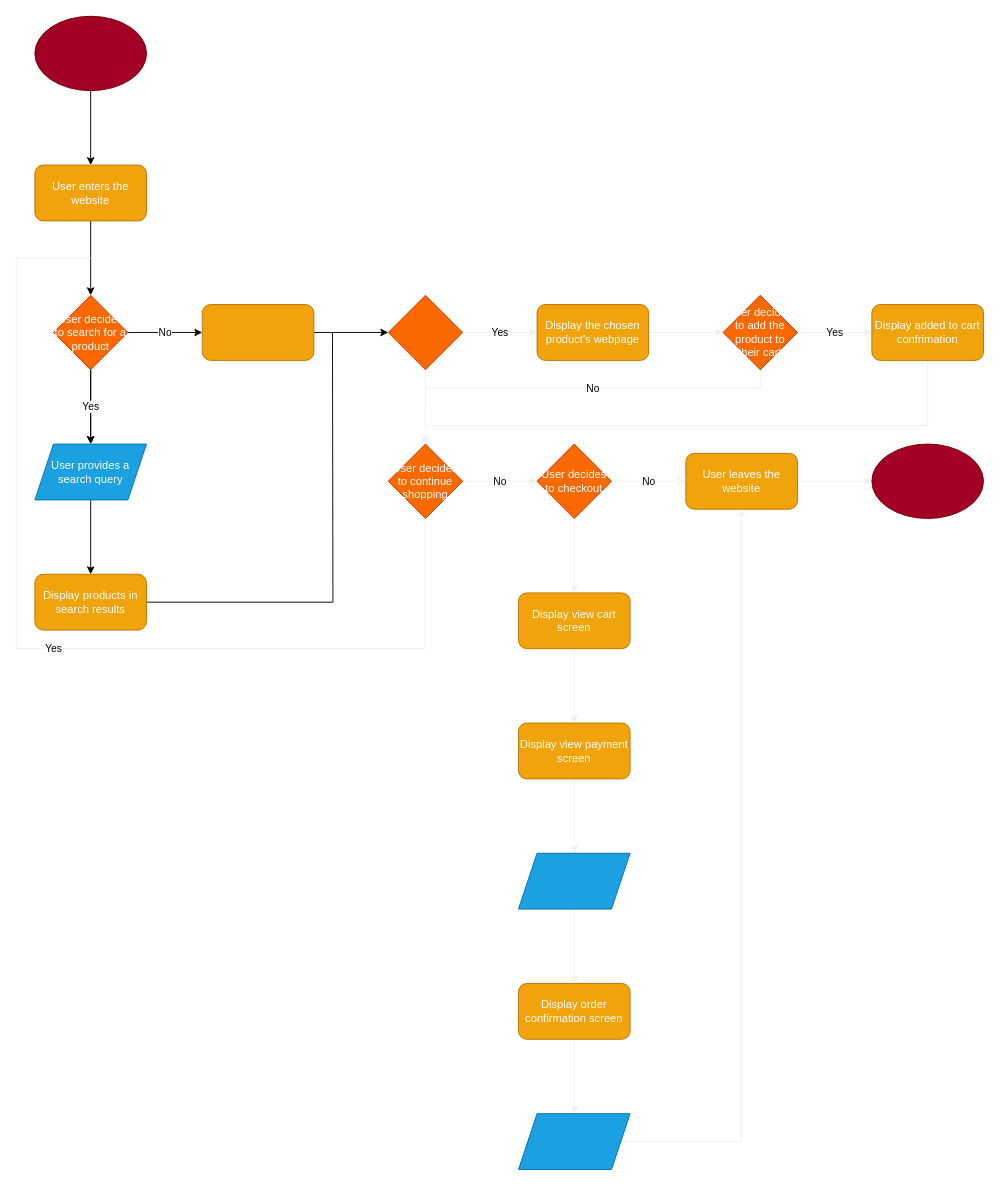
The diagram is 1000 pixels wide and 1186 high, and some of its shapes have lost their labels. Here are the shapes that lost their labels. From the top down, the centre of each, then its label:
pixel 90 53: Start
pixel 257 332: Display products on home page
pixel 425 332: User decides to view a specific product
pixel 927 480: End
pixel 574 880: User provides payment information
pixel 574 1141: Send order confirmation email
